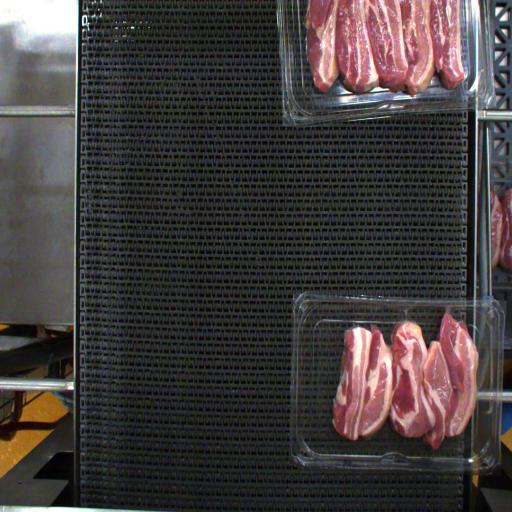packaging-error: (402, 298, 417, 322), (440, 300, 454, 324)
